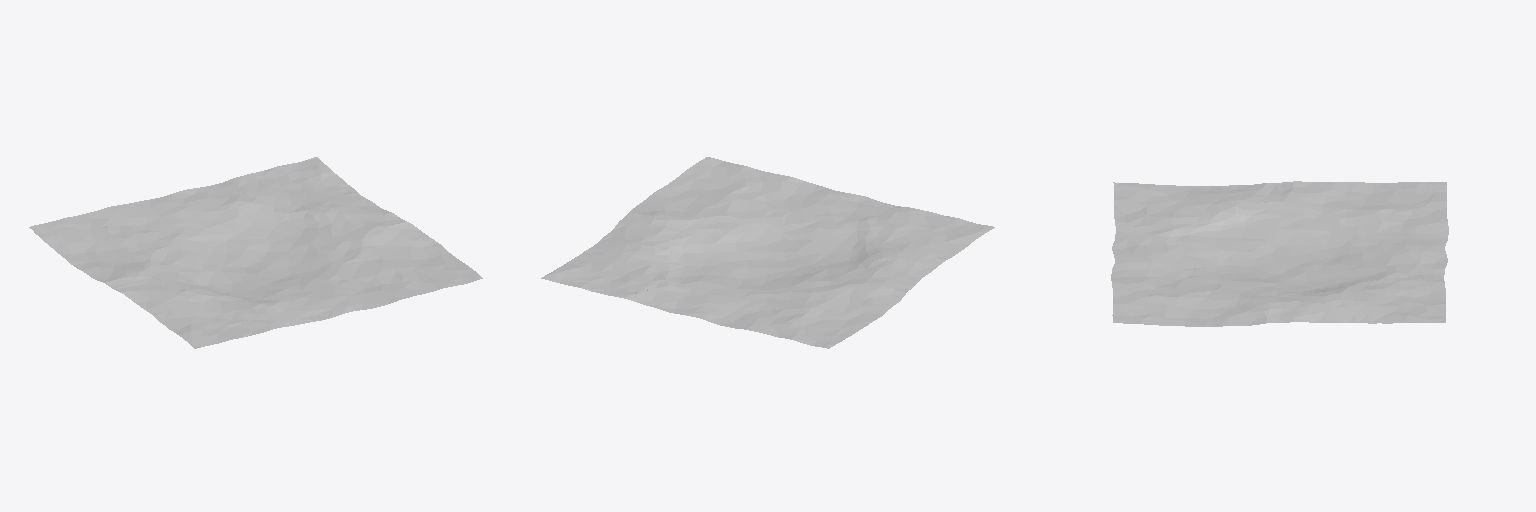
File: Land.obj
3 renders of one model, left to right at view 1: azimuth 30°, elevation 25°; view 2: azimuth 150°, elevation 25°; view 3: azimuth 270°, elevation 25°, orthographic.
Visible parts, largest first — view 1: Plane; view 2: Plane; view 3: Plane.
Boxes of the visible parts, x1=… form: Plane: x1=29, y1=157, x2=482, y2=348; Plane: x1=541, y1=157, x2=994, y2=348; Plane: x1=1111, y1=181, x2=1448, y2=326.
Size of the model in its own units: 51.6 by 1.55 by 50.68.